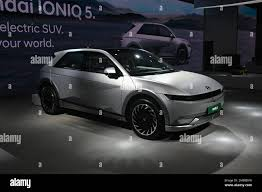Honda Ioniq: (27, 45, 230, 148)
